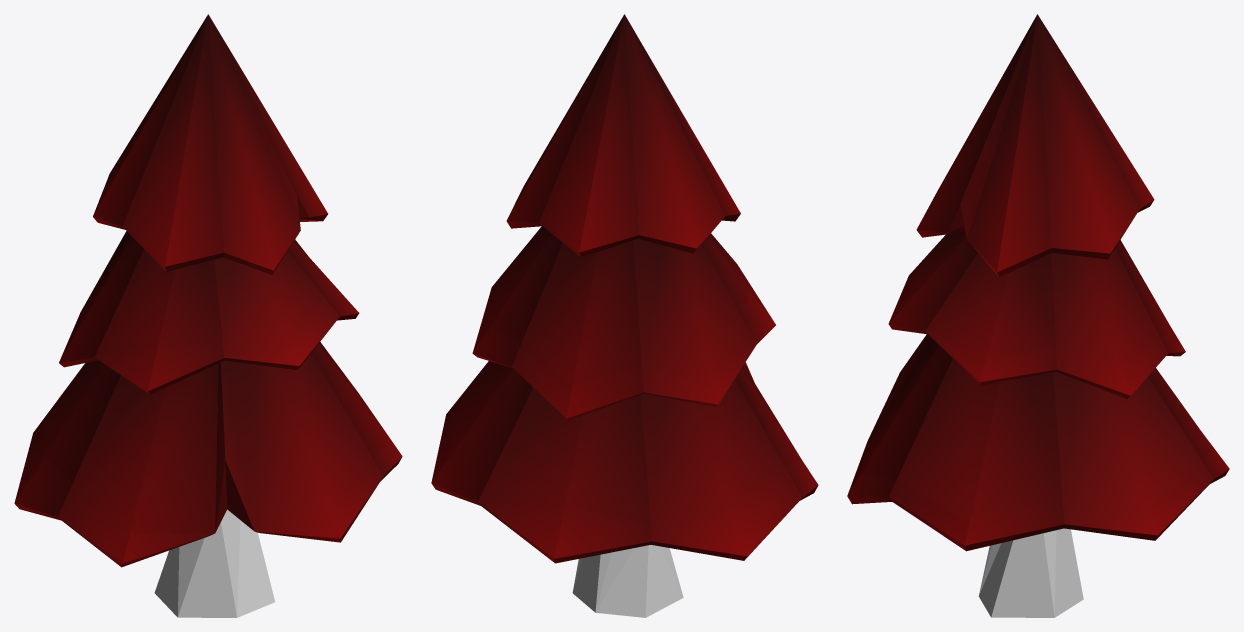
The model's file is PineTree01_Snow_LOD0.fbx.
3 renders of one model, left to right at view 1: azimuth 30°, elevation 25°; view 2: azimuth 150°, elevation 25°; view 3: azimuth 270°, elevation 25°, orthographic.
Parts seen in each view (by area): view 1: PineTree01_SnowLeafs_LOD0, PineTree01_Snow_LOD0, PineTree01_SnowTrunk_LOD0; view 2: PineTree01_SnowLeafs_LOD0, PineTree01_Snow_LOD0, PineTree01_SnowTrunk_LOD0; view 3: PineTree01_SnowLeafs_LOD0, PineTree01_Snow_LOD0, PineTree01_SnowTrunk_LOD0.
Part boxes in pixels (<box>): PineTree01_SnowLeafs_LOD0: <box>15,62,401,567</box>; PineTree01_Snow_LOD0: <box>14,14,402,563</box>; PineTree01_SnowTrunk_LOD0: <box>154,509,274,617</box>; PineTree01_SnowLeafs_LOD0: <box>431,60,817,563</box>; PineTree01_Snow_LOD0: <box>431,14,818,558</box>; PineTree01_SnowTrunk_LOD0: <box>572,545,683,617</box>; PineTree01_SnowLeafs_LOD0: <box>847,64,1229,551</box>; PineTree01_Snow_LOD0: <box>847,14,1229,545</box>; PineTree01_SnowTrunk_LOD0: <box>978,528,1083,617</box>.
Size of the model in its own units: 1.35 by 2.3 by 1.37.
